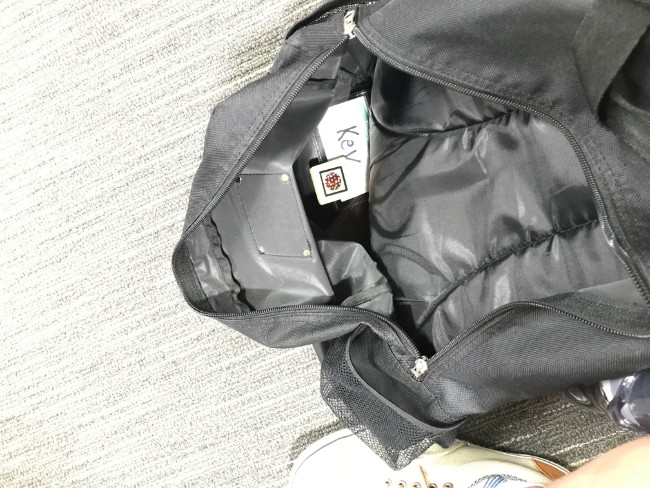cookie: (314, 165, 352, 200)
